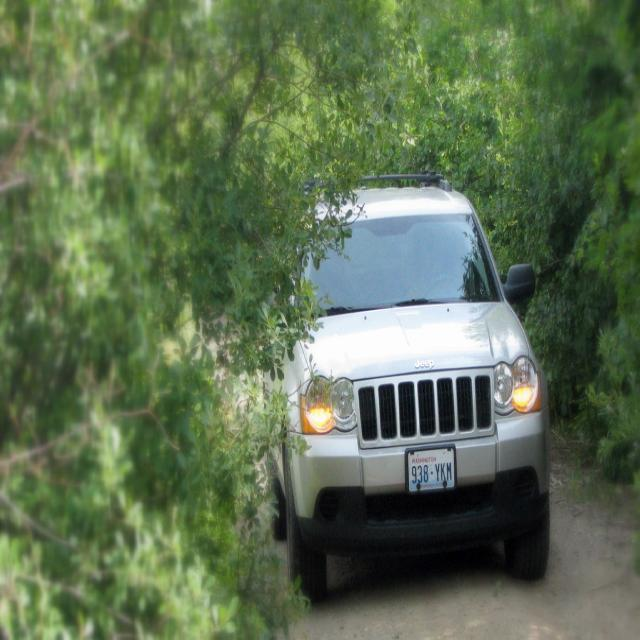car: (271, 176, 542, 606)
